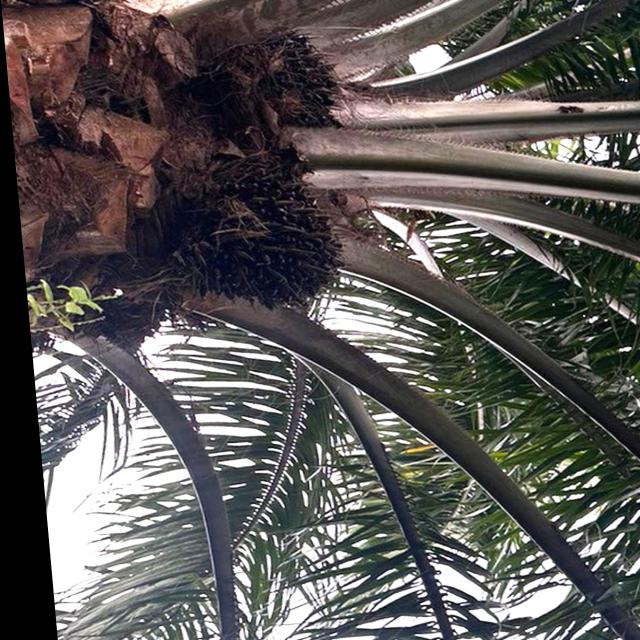ripe: (158, 141, 362, 326)
